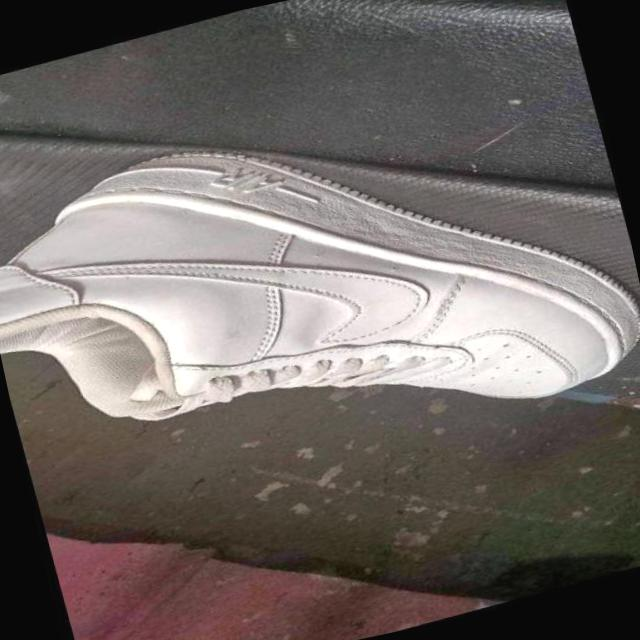nike_fake_airforce: (0, 16, 640, 533)
